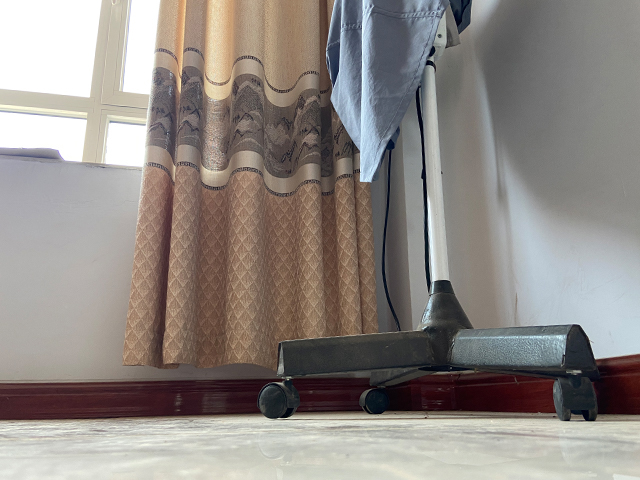curtain: (121, 1, 376, 369)
